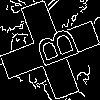B: (25, 25, 80, 73)
